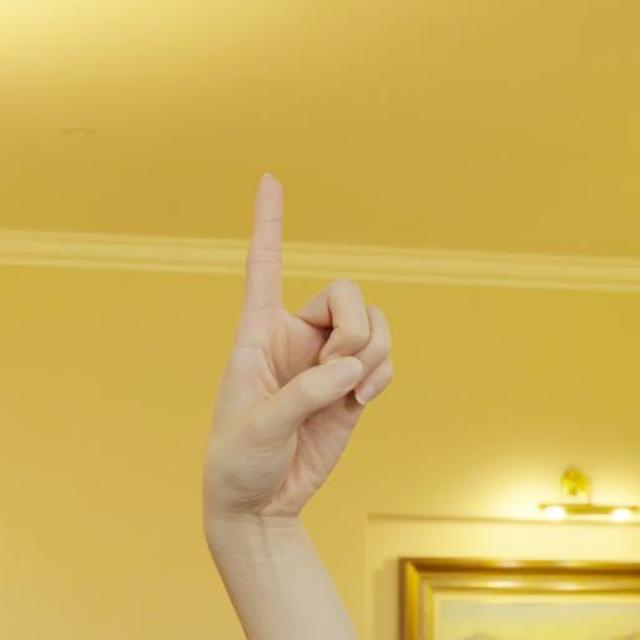D: (183, 160, 407, 558)
